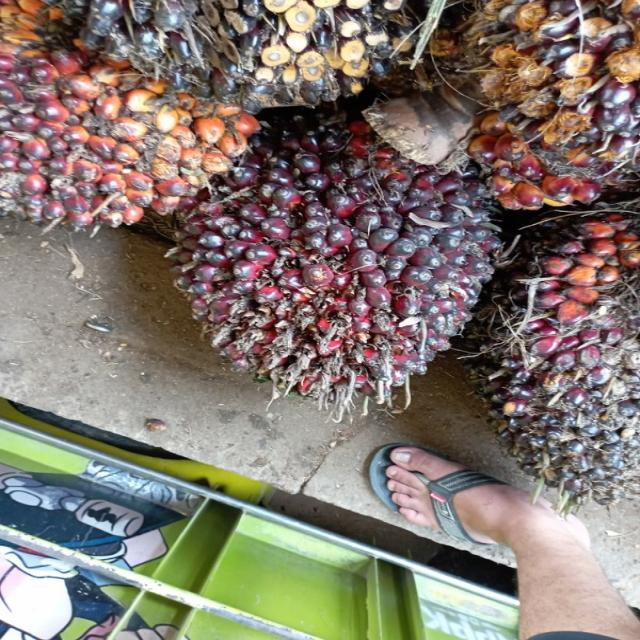fraksi 00: (64, 0, 421, 108)
fraksi 1: (192, 116, 498, 401), (480, 216, 640, 494)
fraksi 3: (0, 9, 238, 228)
